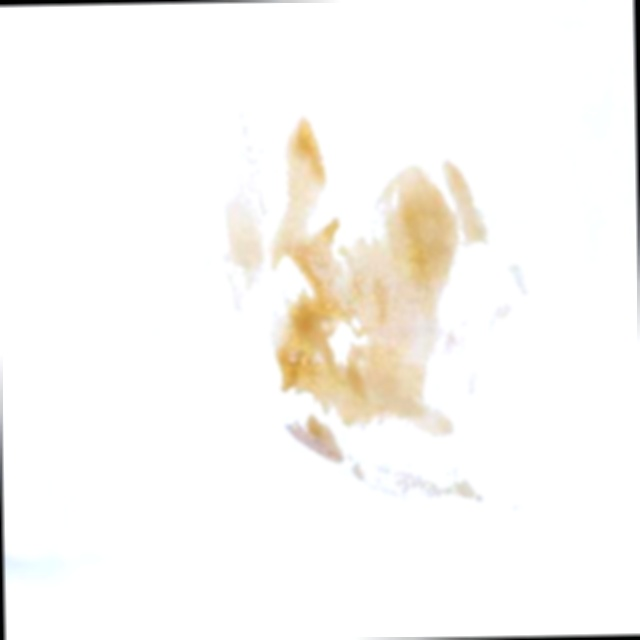coffee: (278, 119, 470, 442), (219, 121, 266, 313)
